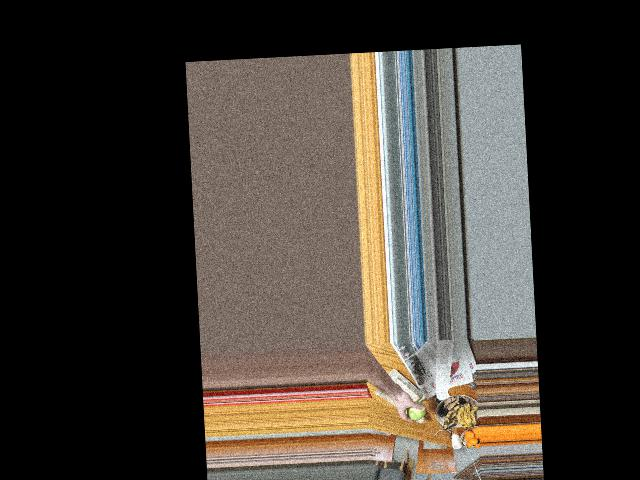apple: (402, 393, 426, 421)
